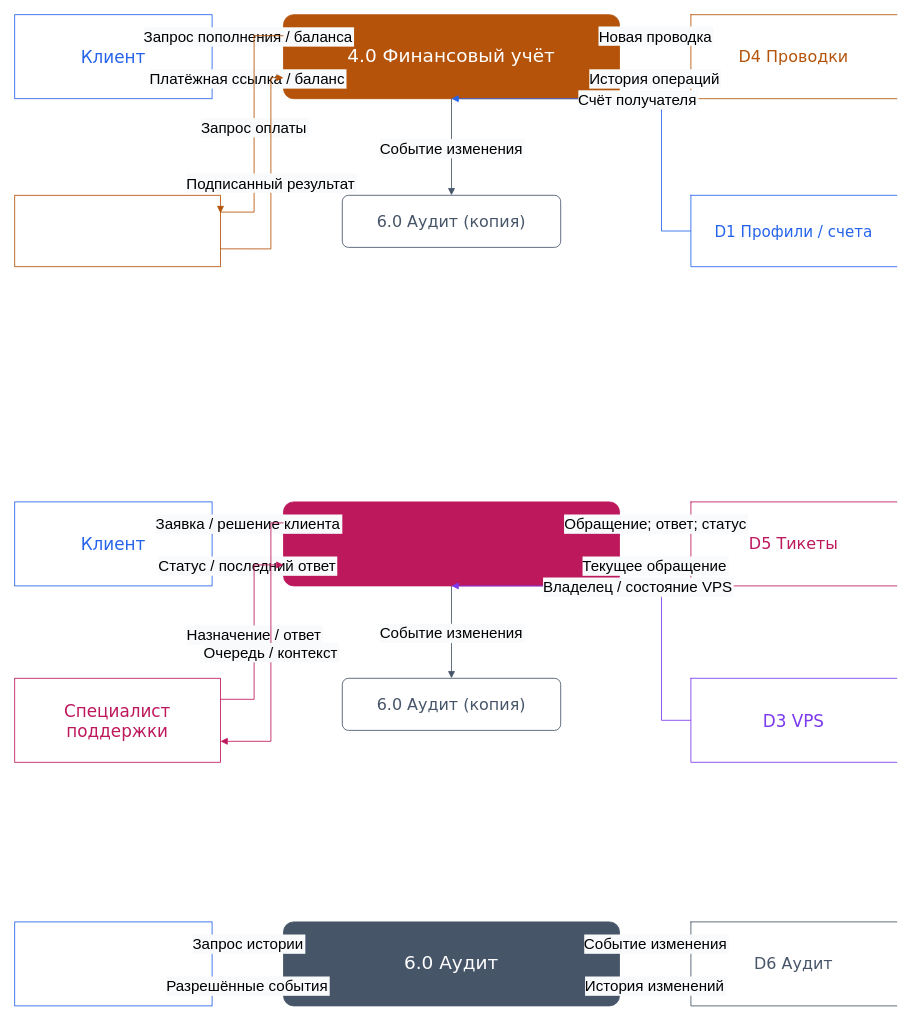
This 911x1021 diagram has some shape labels left out. Each missing label, with the centre of its shape:
5.0 Поддержка: point (451, 543)
Платёжный провайдер: point (117, 230)
Уполномоченный персонал: point (113, 963)
